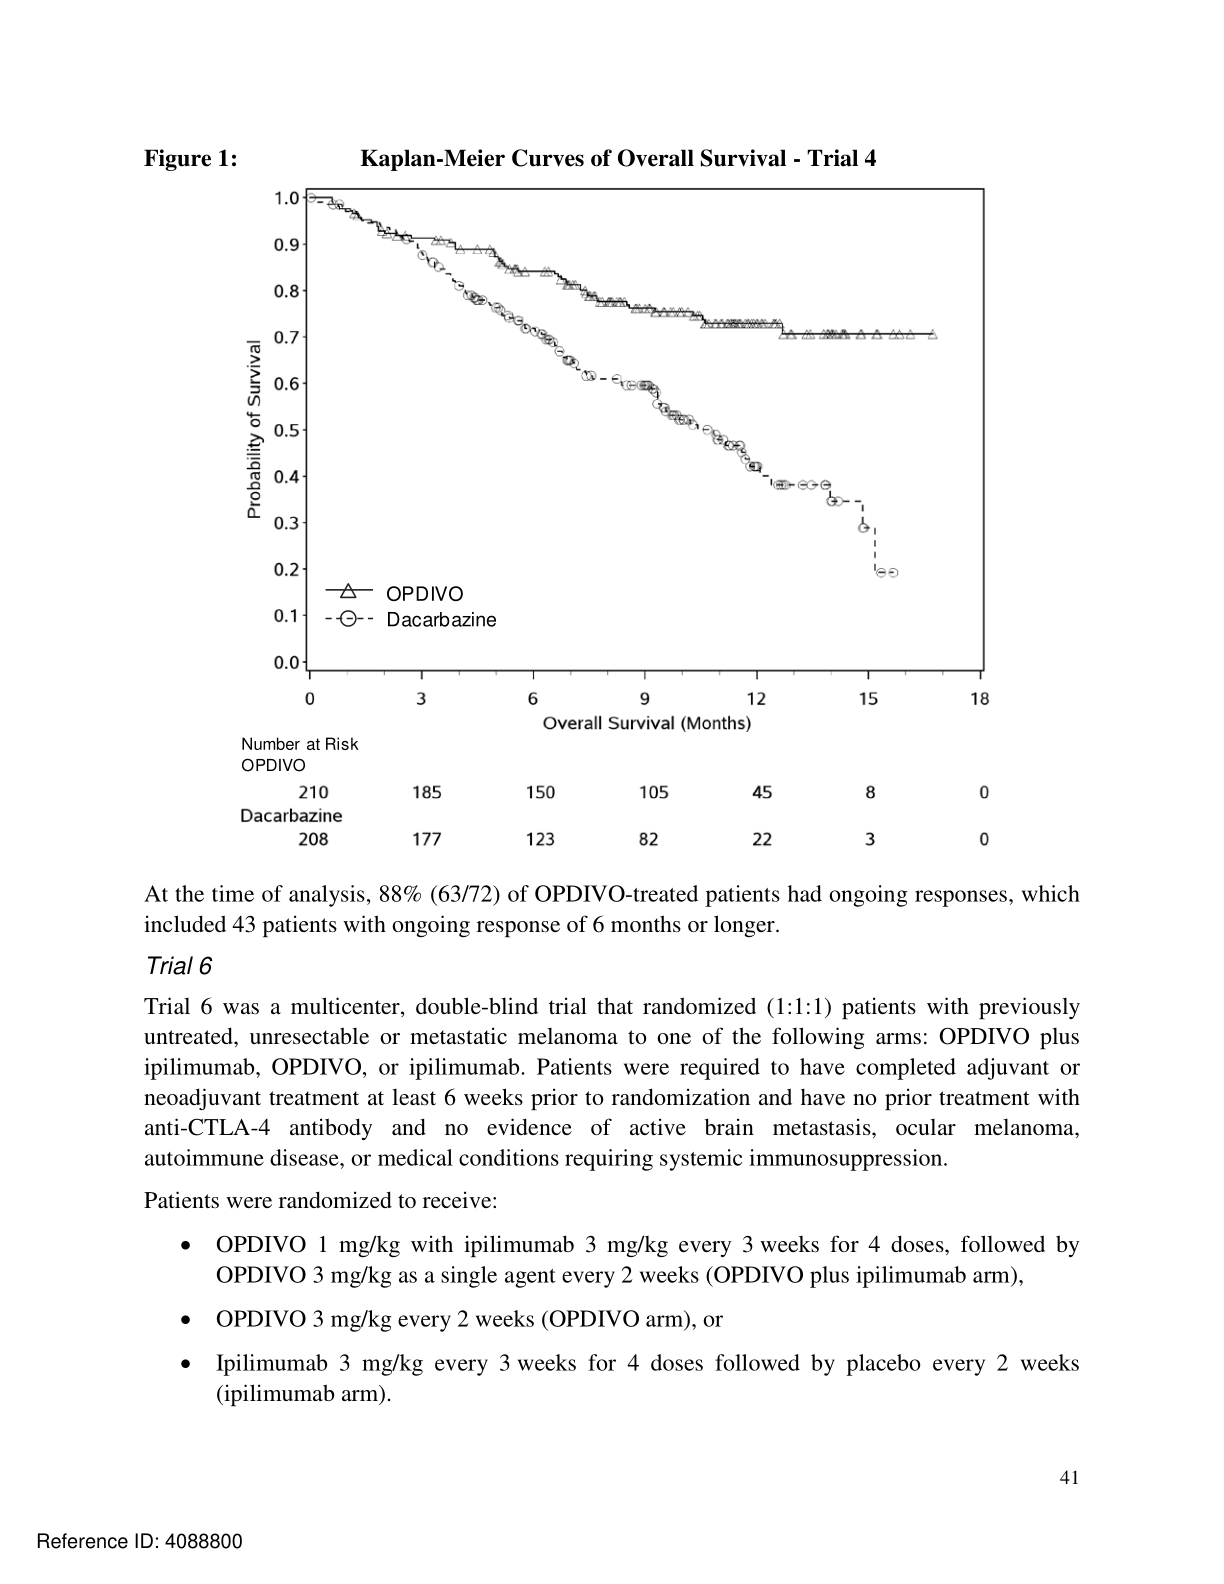nolines: (237, 734, 993, 847)
